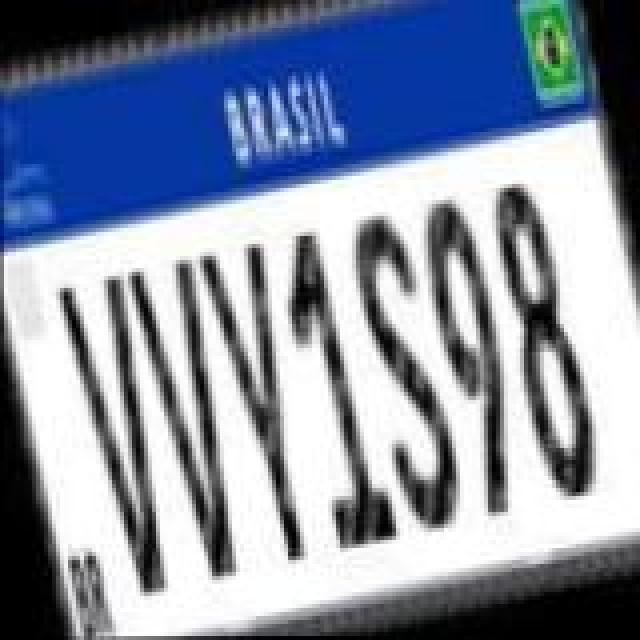1: (268, 218, 396, 558)
8: (478, 168, 614, 516)
9: (410, 186, 538, 526)
S: (332, 198, 476, 550)
V: (54, 266, 194, 610), (126, 252, 258, 588)
Y: (194, 238, 326, 574)
